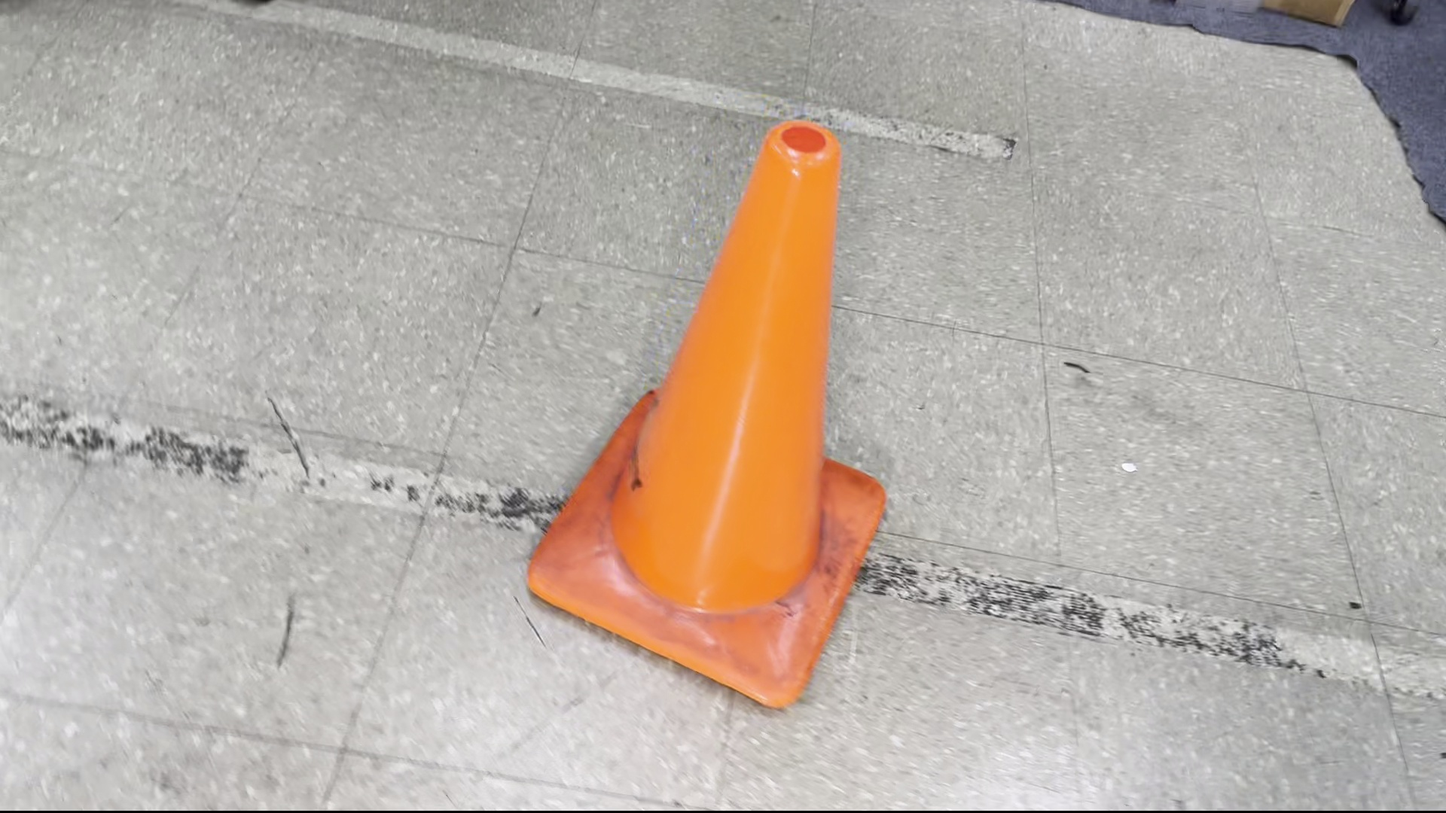traffic_cone: (525, 117, 888, 710)
